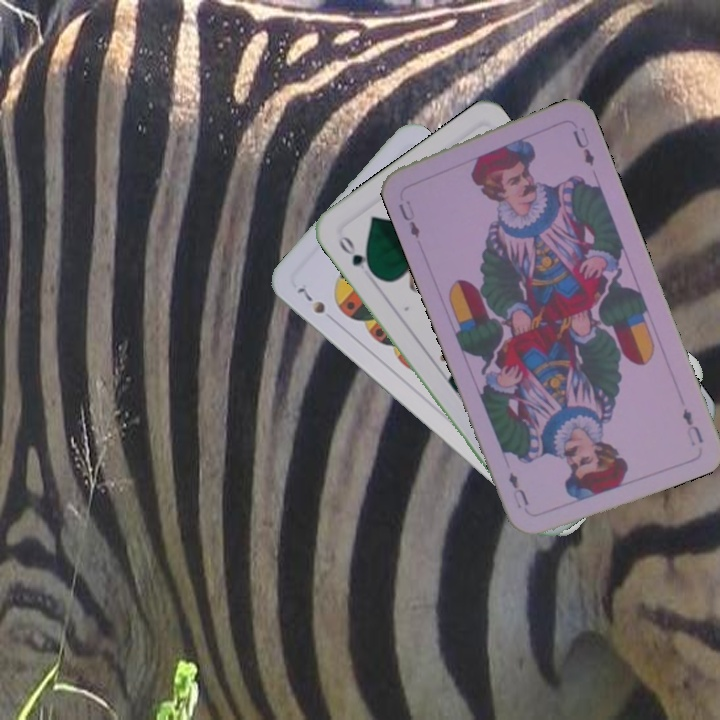EU: (678, 404, 706, 449), (394, 199, 422, 241)
GO: (334, 230, 378, 279)
S7: (293, 283, 328, 317)
